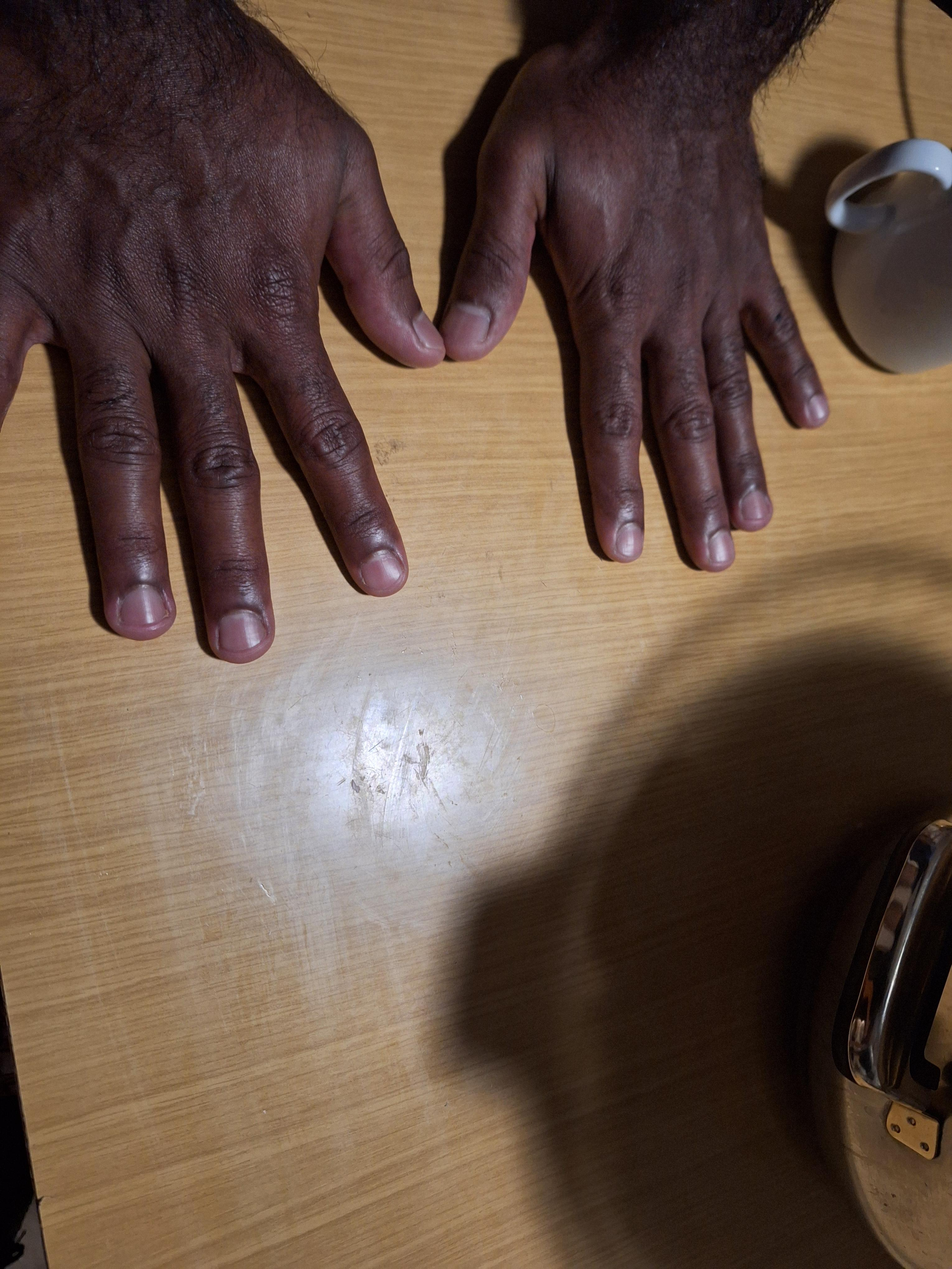Fingernail: (442, 302, 490, 344), (219, 613, 266, 651), (120, 589, 168, 624), (361, 555, 404, 590), (412, 312, 444, 349), (616, 522, 642, 558), (709, 529, 734, 563), (742, 490, 770, 520), (808, 395, 830, 421)
